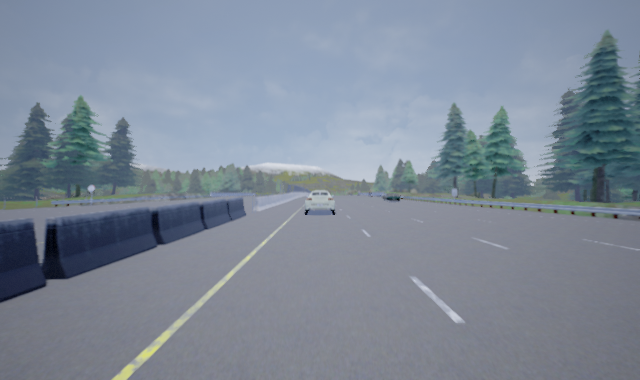vehicle: (303, 190, 336, 215), (383, 193, 401, 202)
